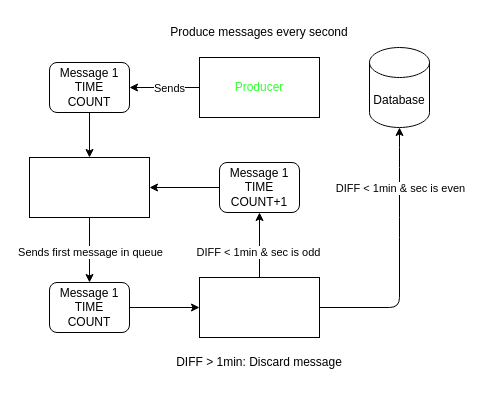
The diagram is 482 pixels wide and 394 high, and some of its shapes have lost their labels. Each missing label, with the centre of its shape:
"Consumer" belongs at point (259, 307).
"Message Broker" belongs at point (89, 187).
